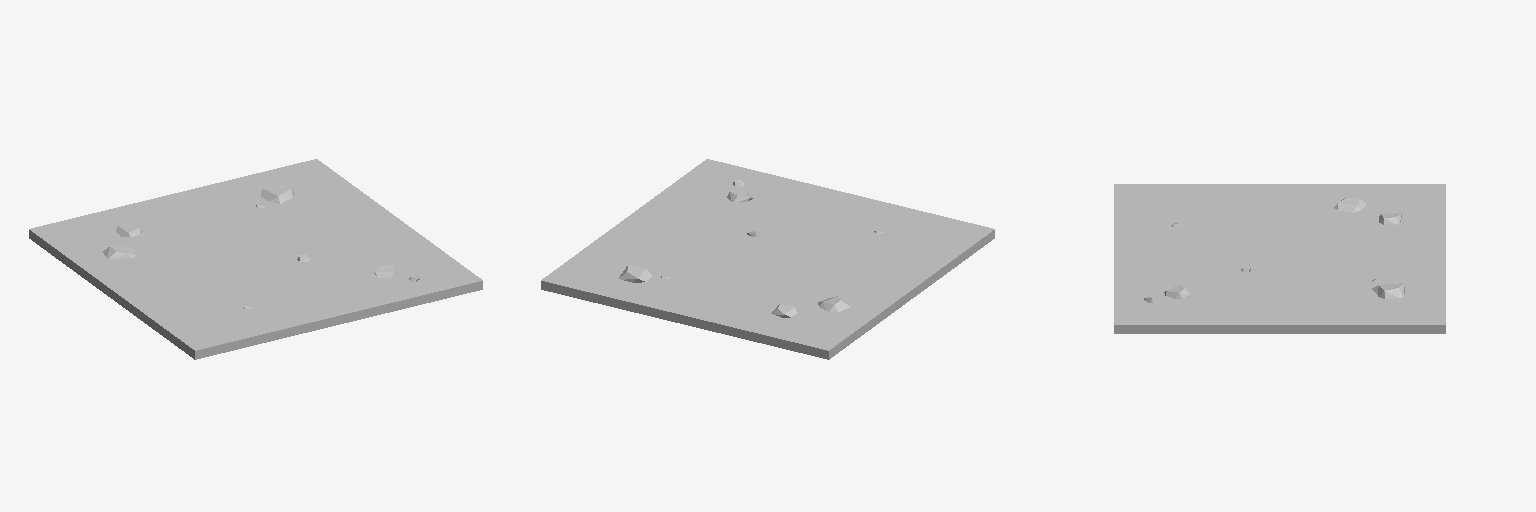
The model's file is floor_dirt_large.obj.
The picture shows the model from 3 angles: view 1: azimuth 30°, elevation 25°; view 2: azimuth 150°, elevation 25°; view 3: azimuth 270°, elevation 25°; orthographic projection.
Parts seen in each view (by area): view 1: floor_dirt_large_Cube.15029; view 2: floor_dirt_large_Cube.15029; view 3: floor_dirt_large_Cube.15029.
Boxes of the visible parts, x1=… form: floor_dirt_large_Cube.15029: x1=29, y1=159, x2=482, y2=359; floor_dirt_large_Cube.15029: x1=541, y1=159, x2=994, y2=359; floor_dirt_large_Cube.15029: x1=1114, y1=184, x2=1445, y2=333.
Size of the model in its own units: 4 by 0.2086 by 4.